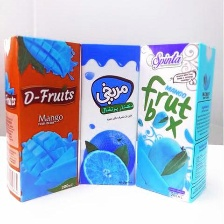carton: (130, 40, 219, 204), (0, 32, 81, 204), (75, 38, 142, 190)
